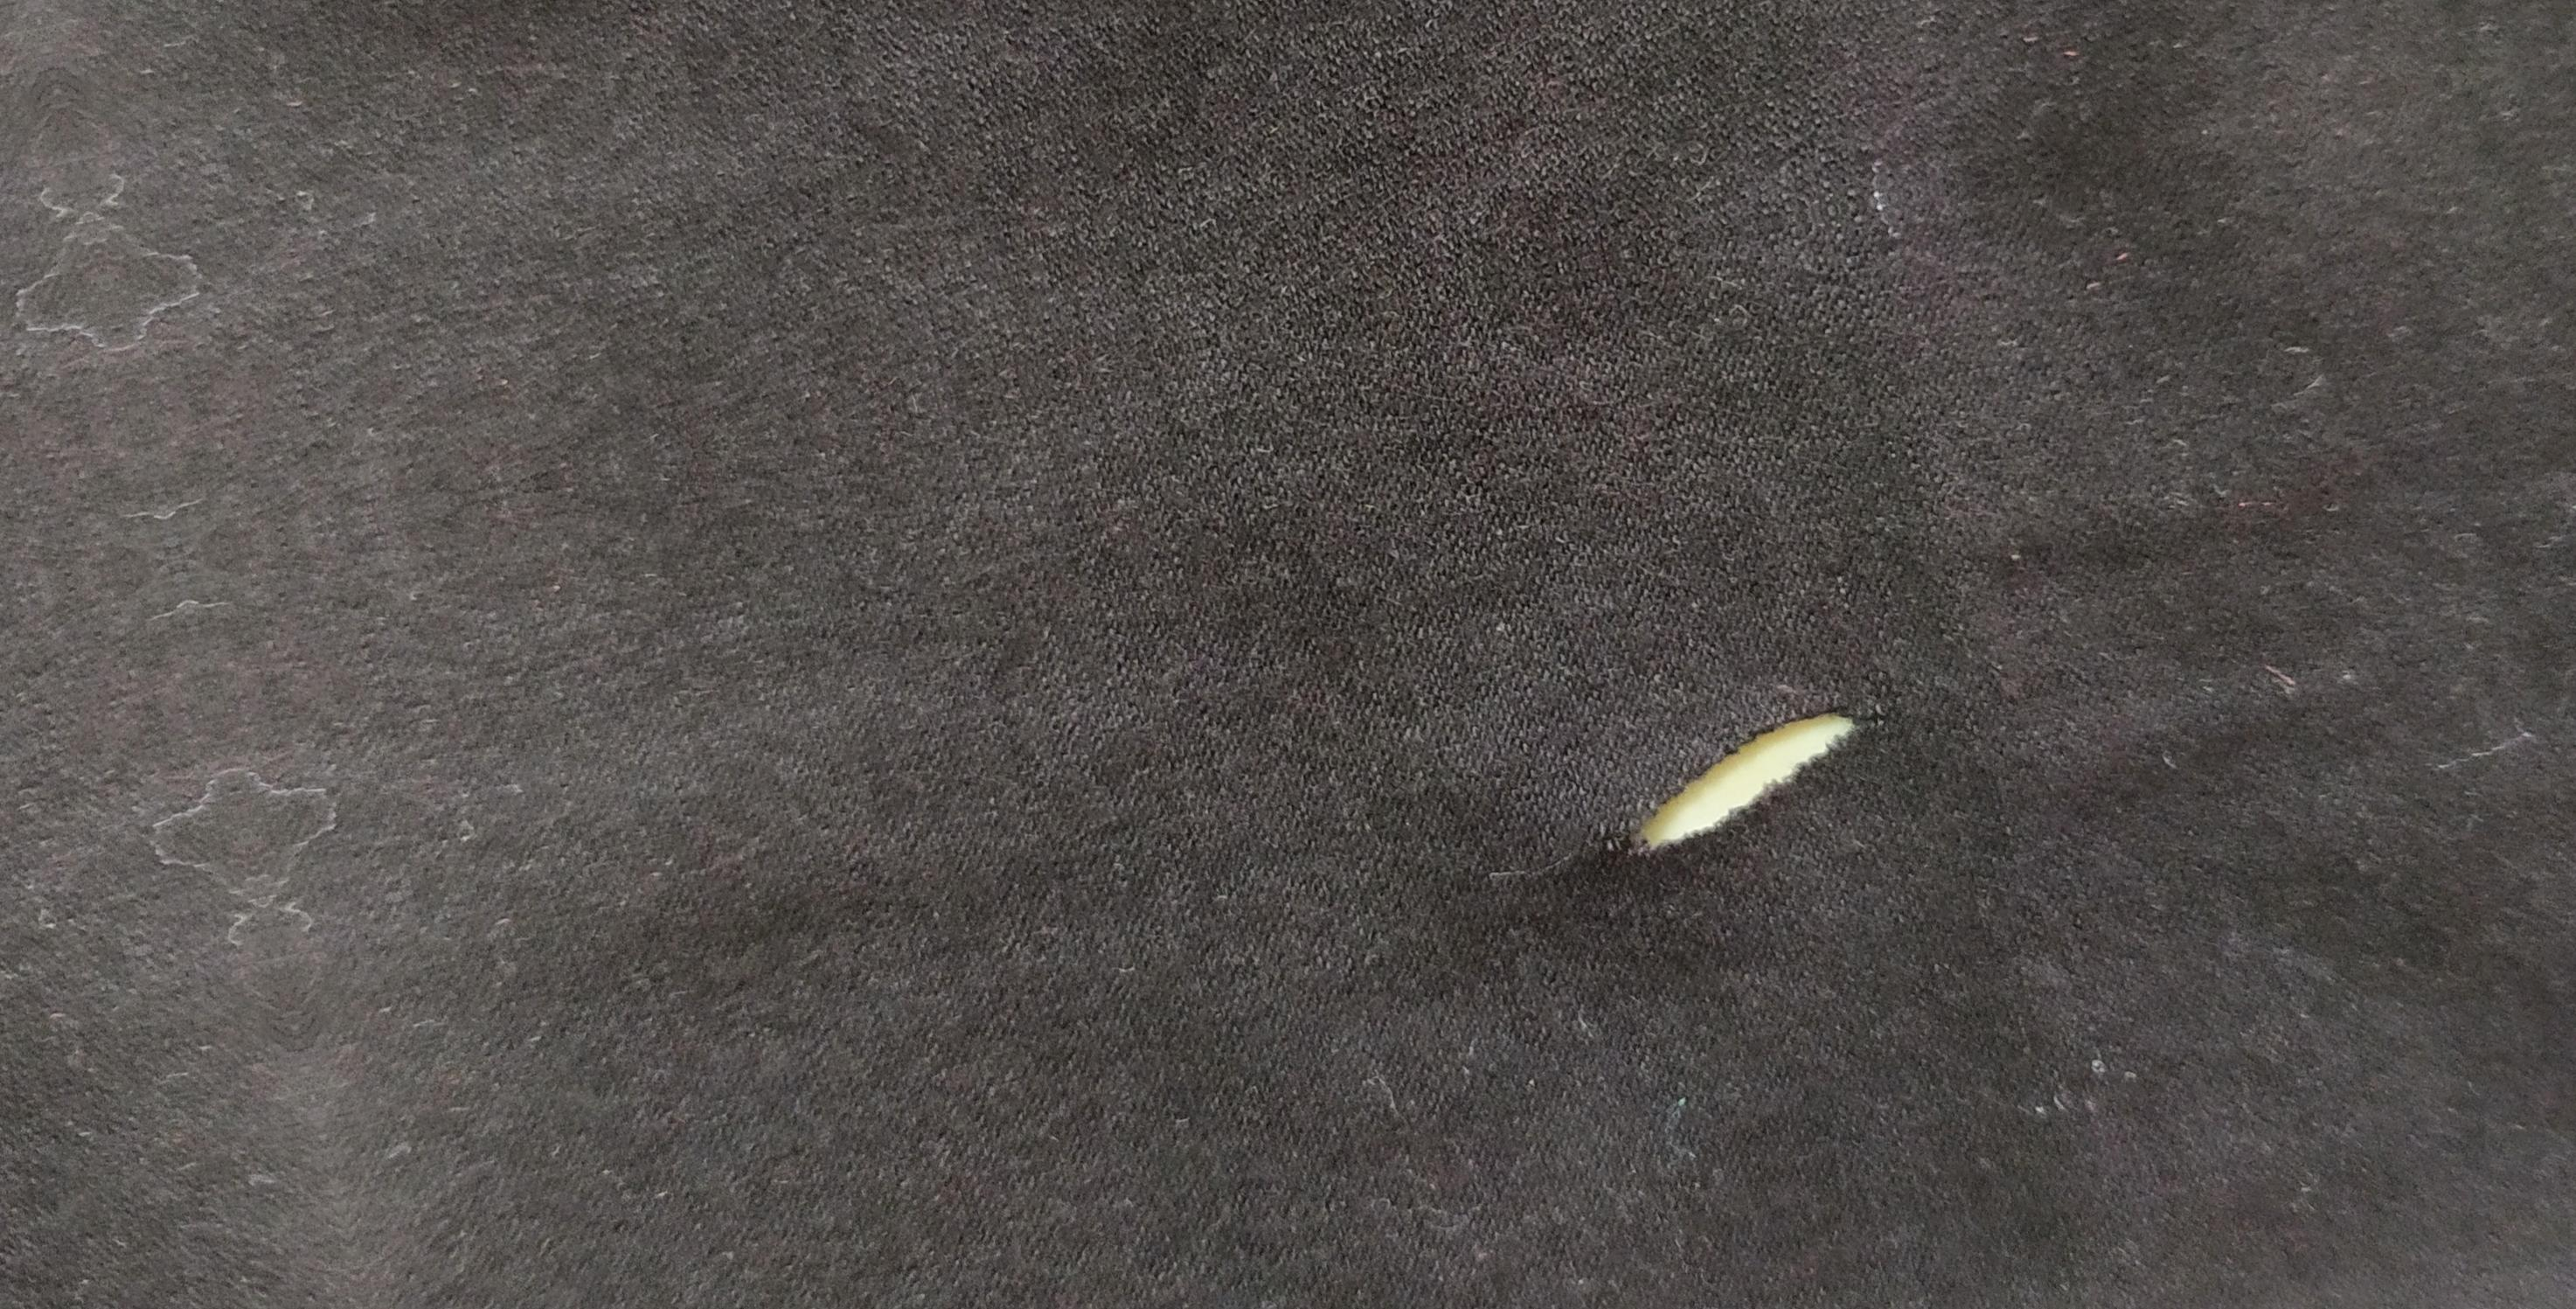hole: (1613, 701, 1909, 862)
